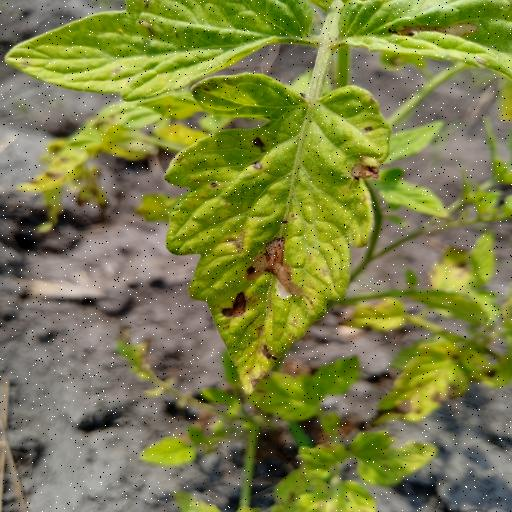Tomato_Brown_Spots: (160, 66, 406, 396)
